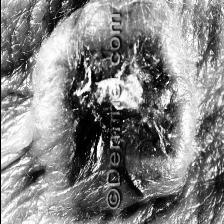Potentially Malignant Skin Tumors: (43, 17, 177, 170)
